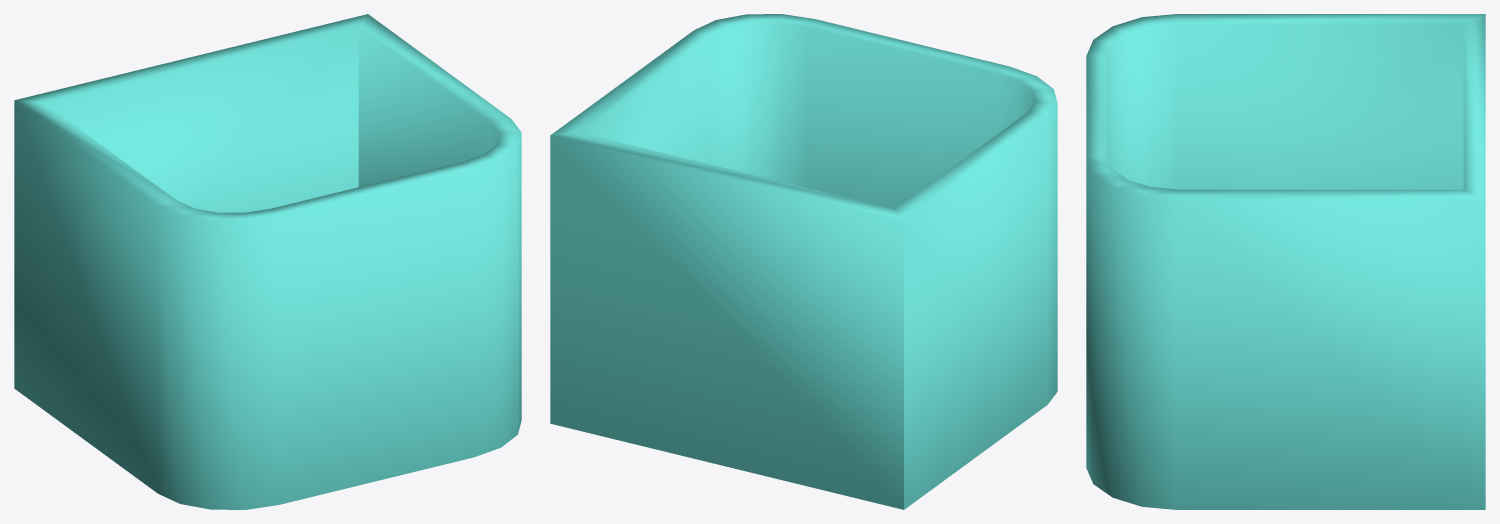
File: bak air .fbx
3 renders of one model, left to right at view 1: azimuth 30°, elevation 25°; view 2: azimuth 150°, elevation 25°; view 3: azimuth 270°, elevation 25°, orthographic. The views are drawn at different scales.
Visible parts, largest first — view 1: Cube.038; view 2: Cube.038; view 3: Cube.038.
Part boxes in pixels (left/top/right/bottom): Cube.038: left=14, top=14, right=521, bottom=509; Cube.038: left=550, top=14, right=1057, bottom=509; Cube.038: left=1086, top=14, right=1485, bottom=509.
Bounding box in the file's own units: 931 × 725 × 846.
